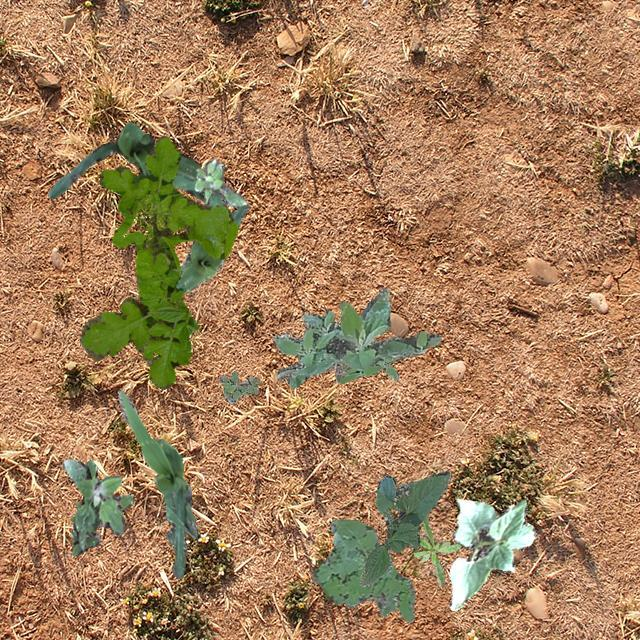crop: (118, 390, 196, 578), (46, 120, 205, 200), (358, 470, 449, 586), (448, 498, 536, 610), (175, 188, 248, 292)
weed: (78, 134, 238, 388), (272, 288, 439, 388), (310, 518, 414, 620), (61, 458, 132, 554), (412, 514, 460, 586), (193, 158, 246, 208), (218, 370, 258, 402), (376, 356, 402, 379)
